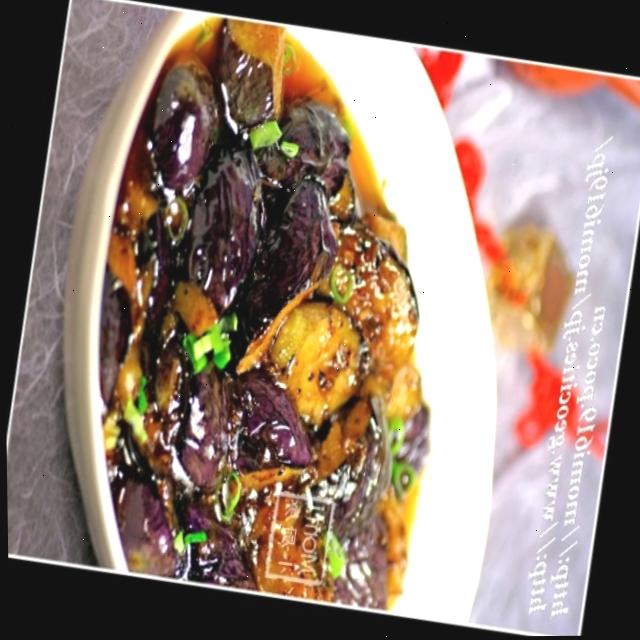鸡蛋料理: (15, 15, 550, 616)
